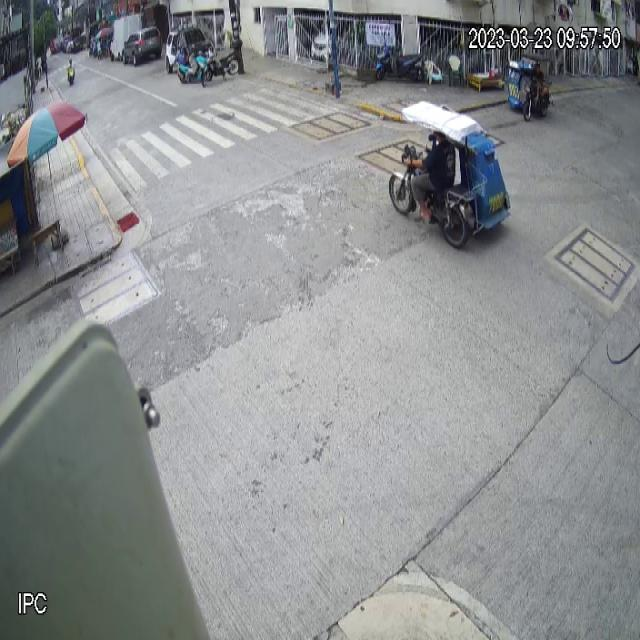Tricycle: (388, 98, 512, 250), (505, 52, 555, 123)
